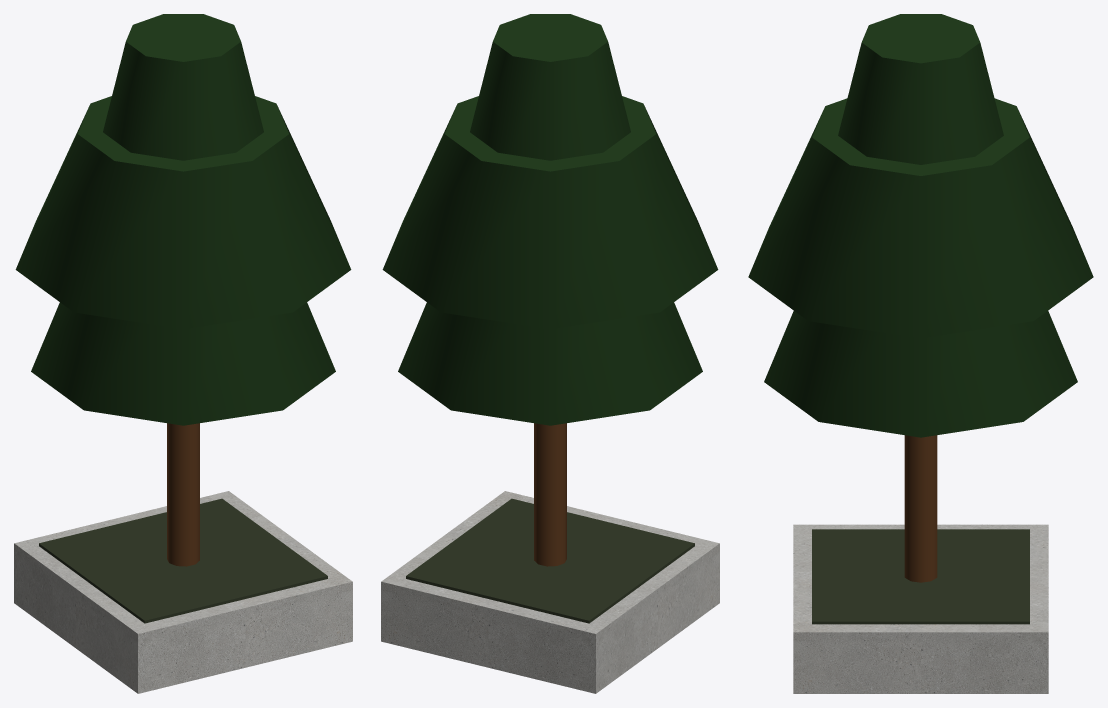
Rendered from planter_tree.obj.
3 renders of one model, left to right at view 1: azimuth 30°, elevation 25°; view 2: azimuth 150°, elevation 25°; view 3: azimuth 270°, elevation 25°, orthographic. The views are drawn at different scales.
Visible parts, largest first — view 1: Foliage, Concrete, Soil, Wood; view 2: Foliage, Concrete, Soil, Wood; view 3: Foliage, Concrete, Soil, Wood.
Boxes of the visible parts, x1,y1,x2,y2 form: Foliage: (15,14,351,425); Concrete: (14,491,352,693); Soil: (39,498,327,623); Wood: (167,423,199,566); Foliage: (382,14,718,425); Concrete: (381,491,719,693); Soil: (406,498,694,623); Wood: (534,423,566,566); Foliage: (748,14,1093,437); Concrete: (793,524,1048,693); Soil: (812,529,1029,624); Wood: (904,435,937,582).
Size of the model in its own units: 3.2 by 6.25 by 3.25.
